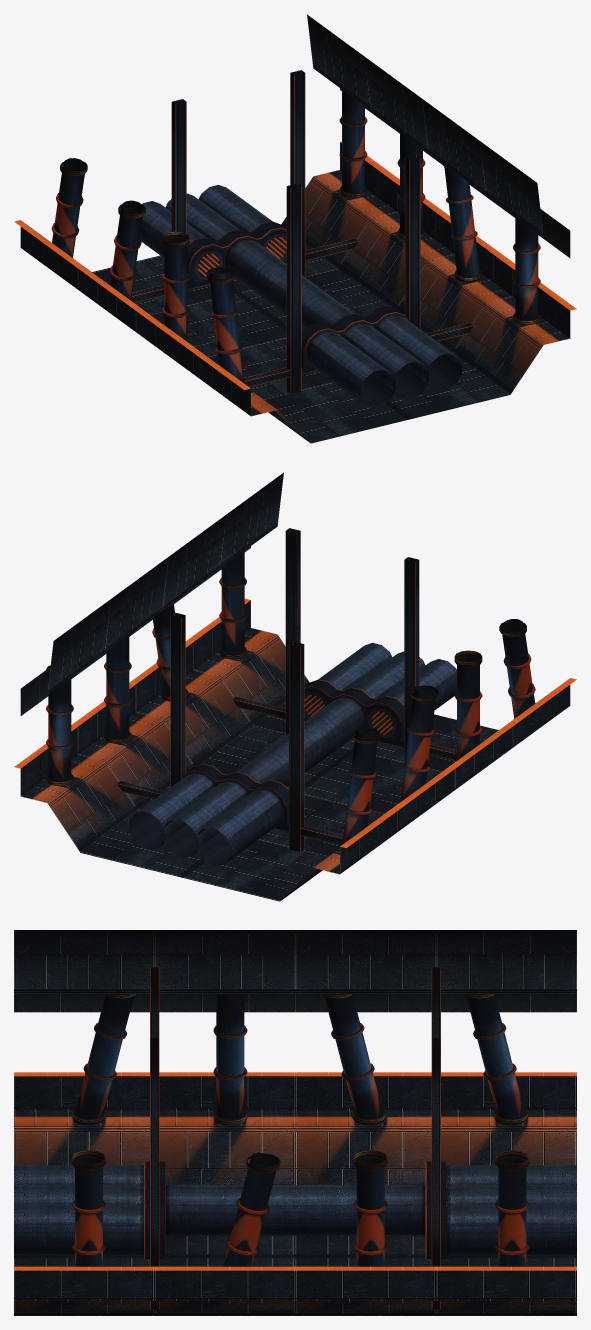
The picture shows the model from 3 angles, top to bottom: view 1: azimuth 30°, elevation 25°; view 2: azimuth 150°, elevation 25°; view 3: azimuth 270°, elevation 25°; orthographic projection. The views are drawn at different scales.
Parts seen in each view (by area): view 1: bg_a_wall00, bg_a_wall03, tube_00, bg_a_wall01; view 2: bg_a_wall00, bg_a_wall03, tube_00, bg_a_wall01; view 3: bg_a_wall00, bg_a_wall01, bg_a_wall03, tube_00.
Part boxes in pixels (x1,y1,x2,y2): bg_a_wall00: (14,141,576,443); bg_a_wall03: (51,70,540,394); tube_00: (140,185,461,408); bg_a_wall01: (307,14,570,257); bg_a_wall00: (14,598,576,901); bg_a_wall03: (46,528,535,852); tube_00: (129,643,456,866); bg_a_wall01: (20,472,283,715); bg_a_wall00: (14,1072,576,1315); bg_a_wall01: (14,930,576,1012); bg_a_wall03: (72,967,529,1309); tube_00: (14,1165,576,1254).
Size of the model in its own units: 5000 by 2950 by 6000.
Materials: 3 (3 with a texture image).
